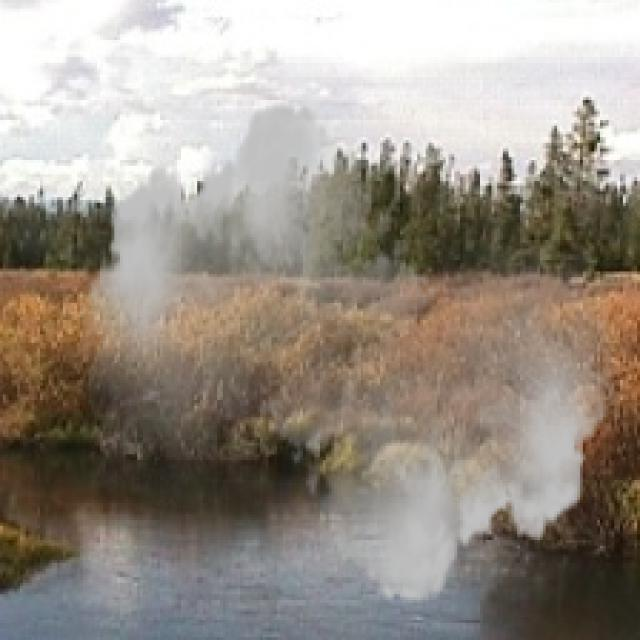smoke: (80, 86, 614, 620)
